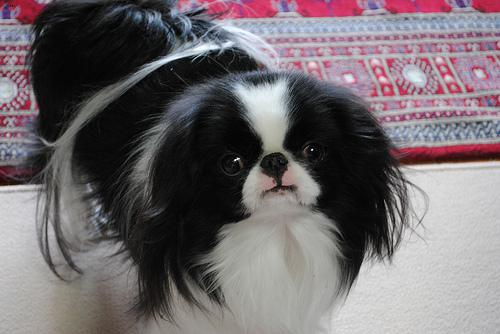dog-japanese_chin: (147, 68, 386, 240)
